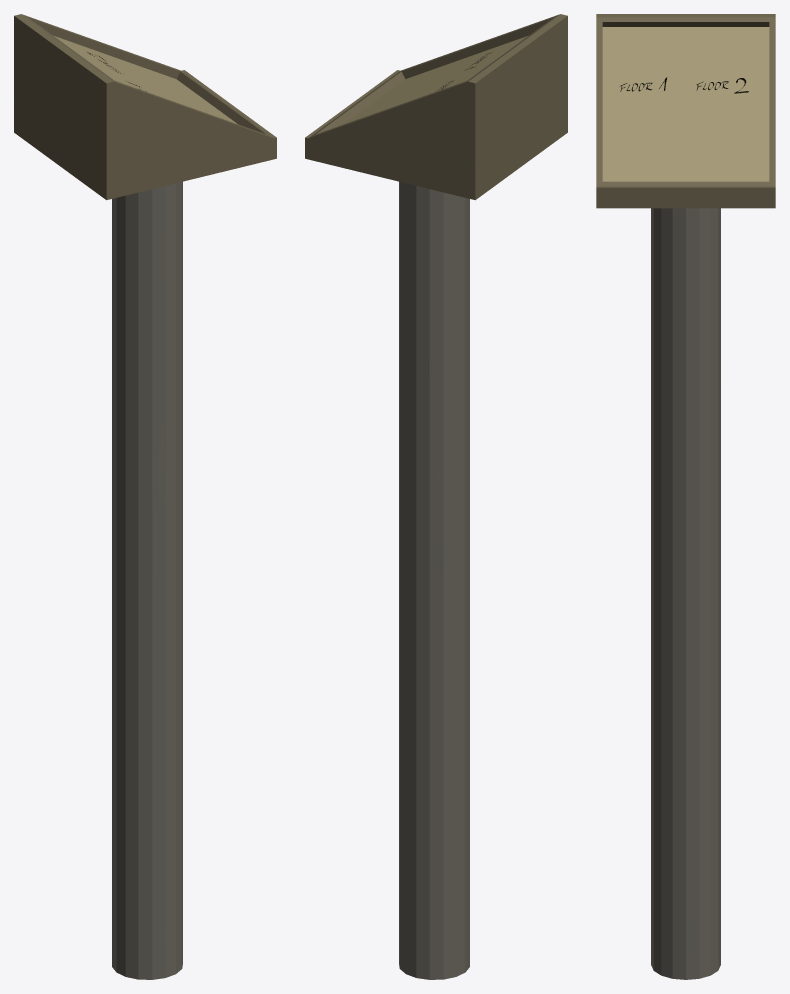
File: F_Panel_01.fbx
The picture shows the model from 3 angles, left to right: view 1: azimuth 30°, elevation 25°; view 2: azimuth 150°, elevation 25°; view 3: azimuth 270°, elevation 25°; orthographic projection. The views are drawn at different scales.
Parts seen in each view (by area): view 1: Cylinder; view 2: Cylinder; view 3: Cylinder.
Part boxes in pixels (x1,y1,x2,y2): Cylinder: (14,14,276,979); Cylinder: (305,14,567,979); Cylinder: (596,14,775,979).
Bounding box in the file's own units: 35.36 × 186 × 33.23.
1 material, 1 textured.
